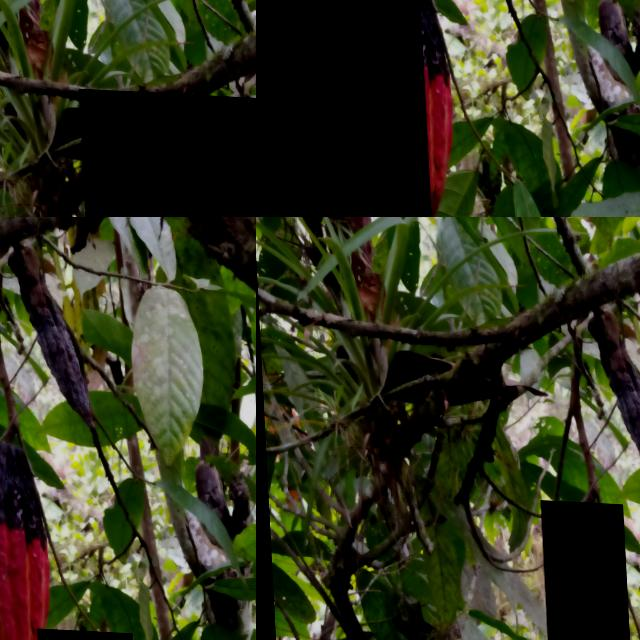Fitoftora: (456, 15, 640, 217), (526, 0, 640, 217), (537, 497, 630, 640), (582, 307, 640, 492)
Monilia: (78, 87, 256, 217)
Sana: (256, 0, 430, 217)
